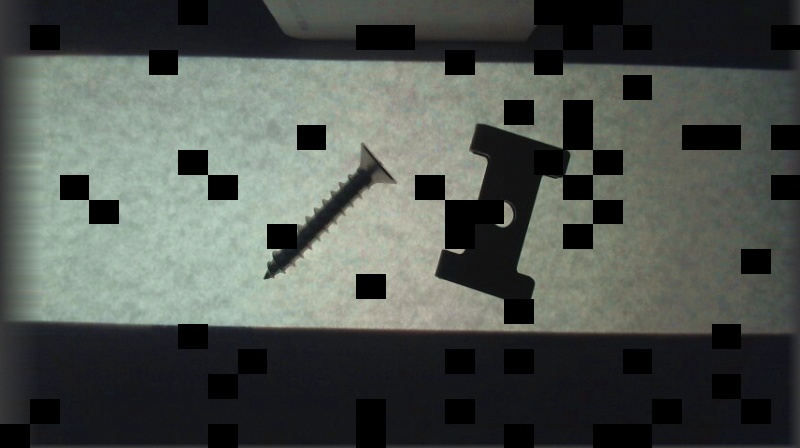O002: (436, 122, 573, 306)
S001: (262, 144, 398, 284)
